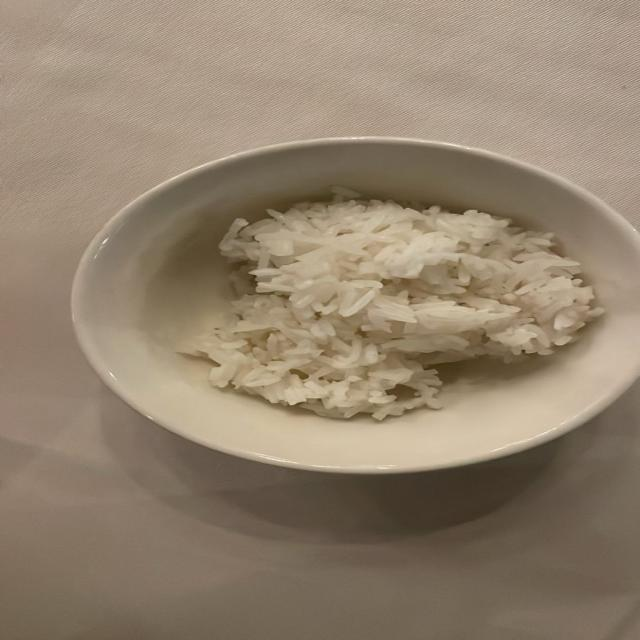rice: (188, 190, 601, 419)
